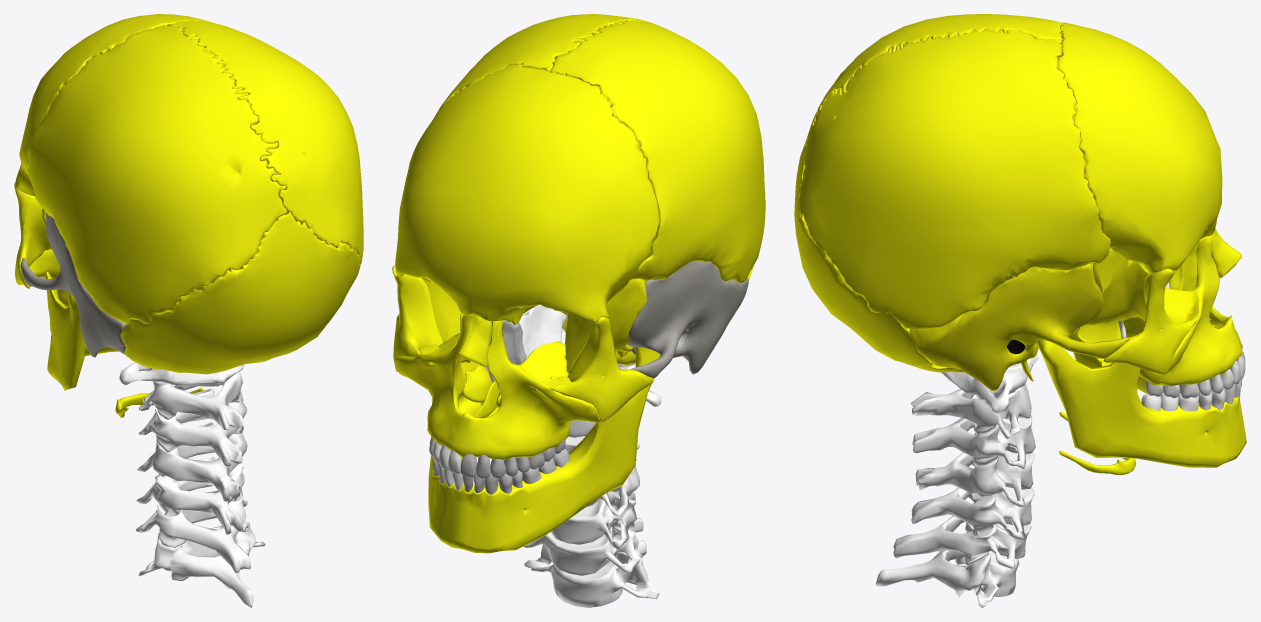
The model's file is Skeletal.glb.
3 views of the same model, side by side, from view 1: azimuth 30°, elevation 25°; view 2: azimuth 150°, elevation 25°; view 3: azimuth 270°, elevation 25° (orthographic). The views are drawn at different scales.
Parts seen in each view (by area): view 1: left_parietal_bone, occipital_bone, right_parietal_bone, frontal_bone, left_temporal_bone, seventh_cervical_vertebra_1, sixth_cervical_vertebra_1, fourth_cervical_vertebra_1, third_cervical_vertebra_1, mandible, axis_second_cervical_vertebra_1, fifth_cervical_vertebra_1 (+3 smaller); view 2: frontal_bone, left_parietal_bone, maxilla, mandible, left_temporal_bone, right_parietal_bone, left_zygomatic_bone, sphenoid_bone, seventh_cervical_vertebra_1, sixth_cervical_vertebra_1, right_zygomatic_bone, fifth_cervical_vertebra_1 (+5 smaller); view 3: right_parietal_bone, frontal_bone, mandible, right_temporal_bone, maxilla, occipital_bone, left_parietal_bone, sphenoid_bone, seventh_cervical_vertebra_1, right_zygomatic_bone, sixth_cervical_vertebra_1, fifth_cervical_vertebra_1 (+7 smaller).
Part boxes in pixels (x1=…): left_parietal_bone: x1=28, y1=25, x2=287, y2=323; occipital_bone: x1=120, y1=211, x2=360, y2=374; right_parietal_bone: x1=167, y1=20, x2=363, y2=264; frontal_bone: x1=15, y1=14, x2=212, y2=196; left_temporal_bone: x1=20, y1=212, x2=127, y2=357; seventh_cervical_vertebra_1: x1=138, y1=519, x2=265, y2=607; sixth_cervical_vertebra_1: x1=135, y1=490, x2=250, y2=572; fourth_cervical_vertebra_1: x1=137, y1=422, x2=247, y2=501; third_cervical_vertebra_1: x1=138, y1=388, x2=247, y2=466; mandible: x1=45, y1=271, x2=119, y2=390; axis_second_cervical_vertebra_1: x1=138, y1=371, x2=243, y2=430; fifth_cervical_vertebra_1: x1=135, y1=457, x2=244, y2=534; frontal_bone: x1=395, y1=64, x2=659, y2=324; left_parietal_bone: x1=550, y1=19, x2=765, y2=282; maxilla: x1=394, y1=313, x2=600, y2=459; mandible: x1=428, y1=346, x2=660, y2=553; left_temporal_bone: x1=627, y1=261, x2=748, y2=378; right_parietal_bone: x1=434, y1=14, x2=645, y2=117; left_zygomatic_bone: x1=549, y1=316, x2=653, y2=421; sphenoid_bone: x1=421, y1=278, x2=646, y2=373; seventh_cervical_vertebra_1: x1=524, y1=540, x2=659, y2=607; sixth_cervical_vertebra_1: x1=523, y1=518, x2=643, y2=576; right_zygomatic_bone: x1=392, y1=264, x2=443, y2=371; fifth_cervical_vertebra_1: x1=551, y1=491, x2=637, y2=549; right_parietal_bone: x1=799, y1=28, x2=1110, y2=329; frontal_bone: x1=1056, y1=22, x2=1222, y2=273; mandible: x1=1036, y1=329, x2=1246, y2=467; right_temporal_bone: x1=909, y1=263, x2=1131, y2=390; maxilla: x1=1122, y1=236, x2=1242, y2=385; occipital_bone: x1=794, y1=144, x2=1005, y2=372; left_parietal_bone: x1=799, y1=14, x2=1062, y2=160; sphenoid_bone: x1=1044, y1=248, x2=1149, y2=366; seventh_cervical_vertebra_1: x1=876, y1=531, x2=1019, y2=607; right_zygomatic_bone: x1=1103, y1=268, x2=1197, y2=374; sixth_cervical_vertebra_1: x1=893, y1=502, x2=1031, y2=568; fifth_cervical_vertebra_1: x1=911, y1=487, x2=1034, y2=539.
Bounding box in the file's own units: 0.0387 × 0.0738 × 0.0542.
Materials: 9 (3 with a texture image).
